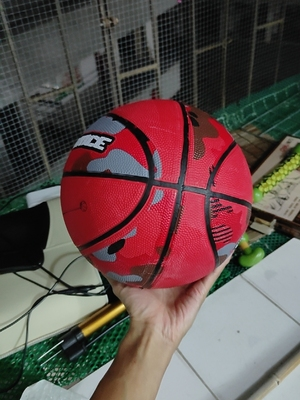ball: (59, 98, 255, 291)
